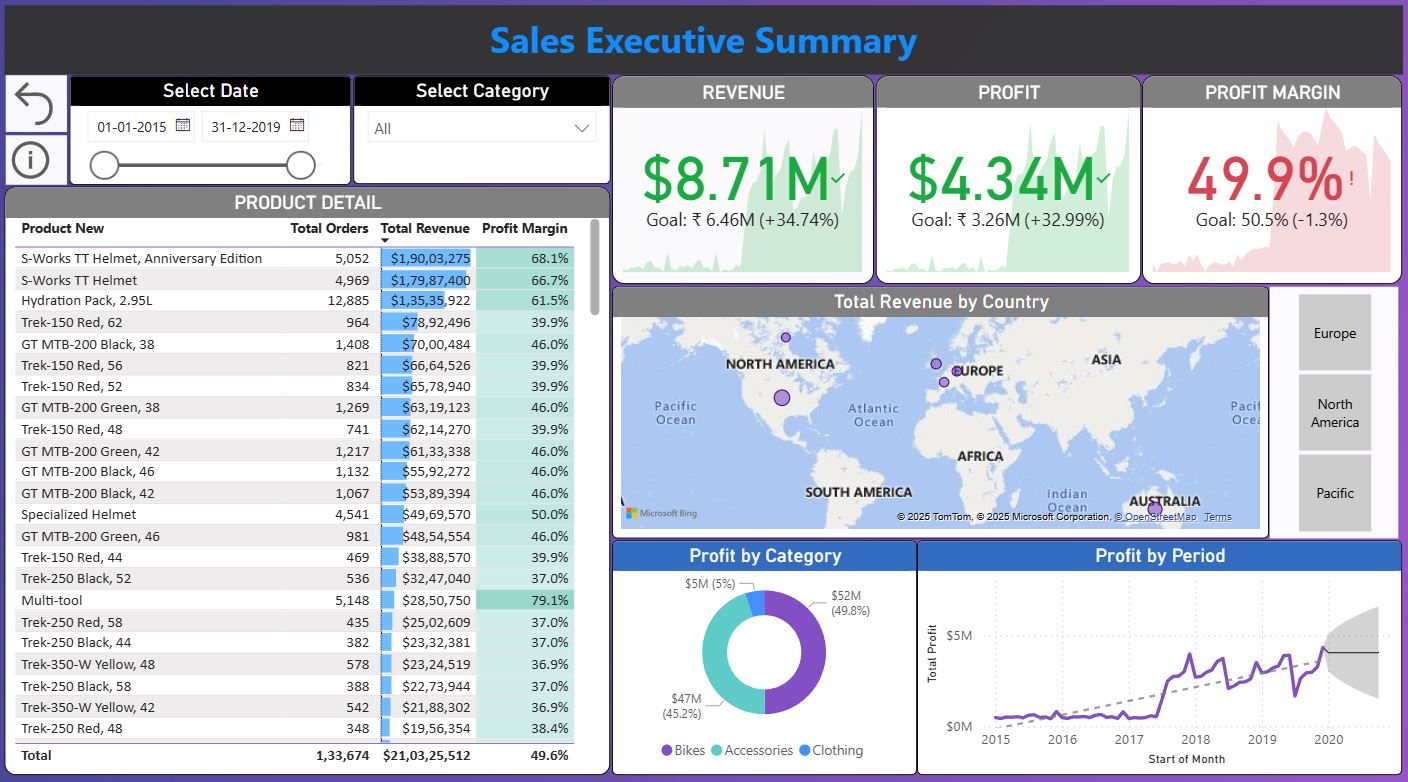

This screenshot's page, from the dashboard's own definition file:
{"tool":"powerbi","page":{"name":"Executive View","canvas":[1280,720],"ordinal":0},"visuals":[{"type":"kpi","title":"REVENUE","fields":{"Indicator":["Maven Cycles Sales.Total Revenue"],"Goal":["Maven Cycles Sales.Last Month Revenue"],"TrendLine":["Maven Cycles Calendar.Start of Month"]},"box":[523.2,18.1,241.6,197.7],"z":0},{"type":"slicer","title":"Select Date","fields":{"Values":["Maven Cycles Calendar.Date"]},"box":[277.2,18.8,230.8,96.6],"z":1000},{"type":"kpi","title":"PROFIT","fields":{"Goal":["Maven Cycles Sales.Last Month Profit"],"TrendLine":["Maven Cycles Calendar.Start of Month"],"Indicator":["Maven Cycles Sales.Profit"]},"box":[777.6,18.8,233.3,198.2],"z":2000},{"type":"kpi","title":"PROFIT MARGIN","fields":{"Goal":["Maven Cycles Sales.Last Month Profit Margin"],"TrendLine":["Maven Cycles Calendar.Start of Month"],"Indicator":["Maven Cycles Sales.Profit Margin"]},"box":[1024.7,18.8,242.1,198.2],"z":3000},{"type":"tableEx","title":"PRODUCT DETAIL","fields":{"Values":["Maven Cycles Products.Product New","Maven Cycles Sales.Total Orders","Maven Cycles Sales.Total Revenue","Maven Cycles Sales.Profit Margin"]},"box":[20.5,236.4,537.9,467.9],"z":4000},{"type":"map","fields":{"Size":["Maven Cycles Sales.Total Revenue"],"Category":["Maven Cycles Regions.Country"]},"box":[571.9,240.1,585.1,234],"z":5000},{"type":"lineChart","title":"Profit by Period","fields":{"Category":["Maven Cycles Calendar.Start of Month","Maven Cycles Calendar.Start of Quarter","Maven Cycles Calendar.Year"],"Y":["Maven Cycles Sales.Profit"]},"box":[851.5,484.8,416.1,219.5],"z":6000},{"type":"donutChart","title":"Profit by Category","fields":{"Category":["Maven Cycles Product Categories.Product Category"],"Y":["Maven Cycles Sales.Profit"]},"box":[571.7,484.8,270.2,219.5],"z":7000},{"type":"image","box":[20.1,17.6,166.8,132.9],"z":8000},{"type":"textbox","box":[26.5,150.8,154.4,65.1],"z":9000},{"type":"actionButton","box":[195.7,154.3,53.9,40.1],"z":10000},{"type":"actionButton","box":[195.7,94.1,53.9,40.1],"z":11000},{"type":"slicer","title":"Select Category","fields":{"Values":["Maven Cycles Product Subcategories.Sub Category"]},"box":[277.2,129.2,230.8,87.8],"z":12000},{"type":"slicer","fields":{"Values":["Maven Cycles Regions.Continent"]},"box":[1157,240.1,114.6,234],"z":13000}]}

Visuals, with their boxes in screenshot pixels (x1, y1, x2, y2), scaled from the page's 1280x720 canvas onto the 1408x782 screenshot:
"REVENUE" kpi: [576, 20, 841, 234]
"Select Date" slicer: [305, 20, 559, 125]
"PROFIT" kpi: [855, 20, 1112, 236]
"PROFIT MARGIN" kpi: [1127, 20, 1393, 236]
"PRODUCT DETAIL" tableEx: [23, 257, 614, 765]
map - Maven Cycles Sales.Total Revenue x Maven Cycles Regions.Country: [629, 261, 1273, 515]
"Profit by Period" lineChart: [937, 527, 1394, 765]
"Profit by Category" donutChart: [629, 527, 926, 765]
image: [22, 19, 206, 163]
textbox: [29, 164, 199, 234]
actionButton: [215, 168, 275, 211]
actionButton: [215, 102, 275, 146]
"Select Category" slicer: [305, 140, 559, 236]
slicer - Maven Cycles Regions.Continent: [1273, 261, 1399, 515]
